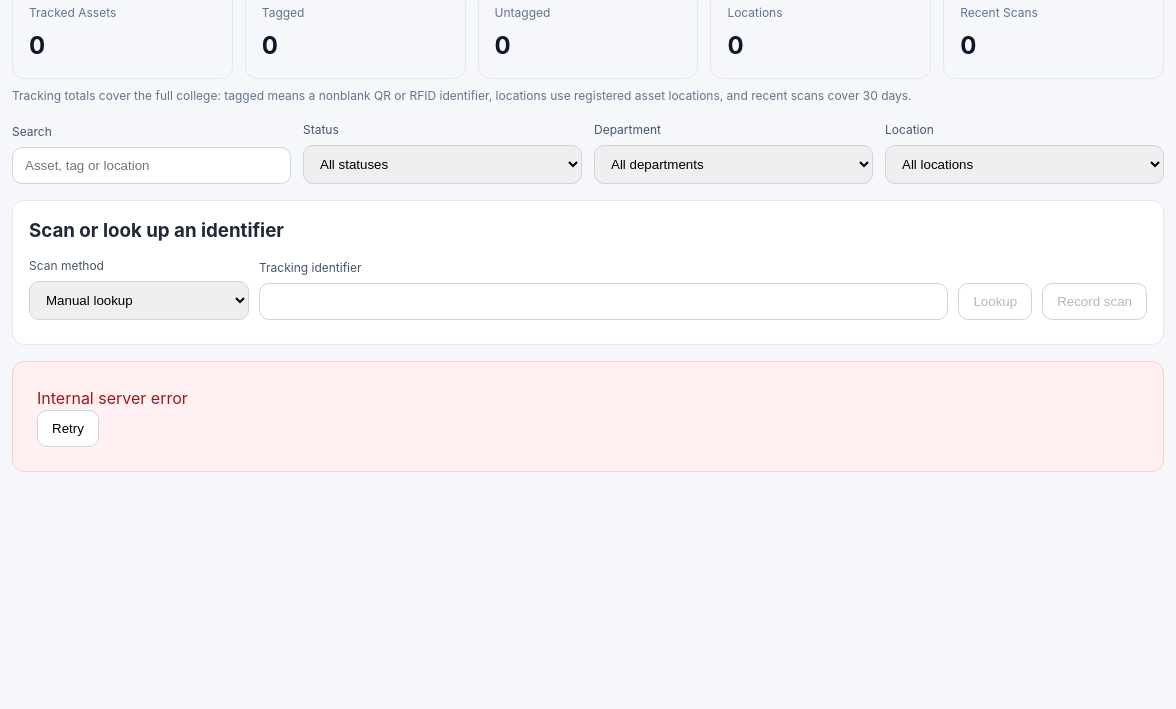
it: filters are sent to the configured API path and retryable API errors remain distinct from empty results
This screenshot has width=1176, height=709.
Expected: the message shows "Internal server error", [37,388,188,408]
Click the button "Retry": (68, 429) [37,410,99,447]
(page scrolled)
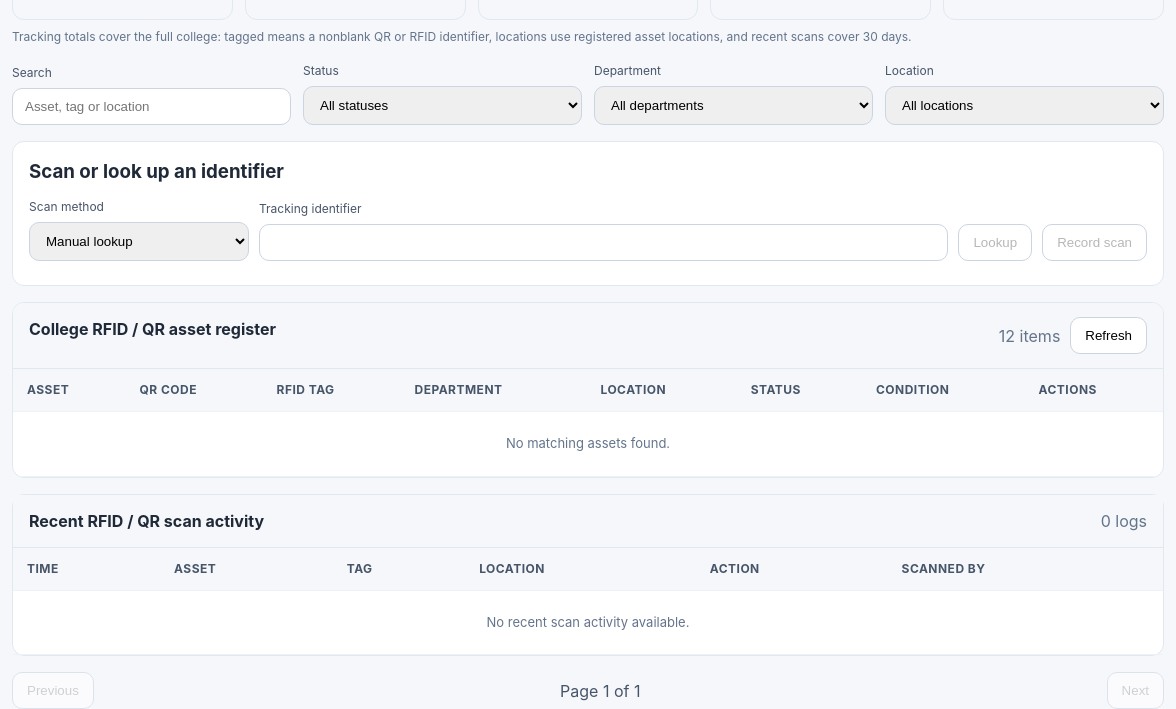
Expected: the text "No matching assets found." is shown, [13,412,1163,476]
Expected: the text "No recent scan activity available." is shown, [13,590,1163,655]
